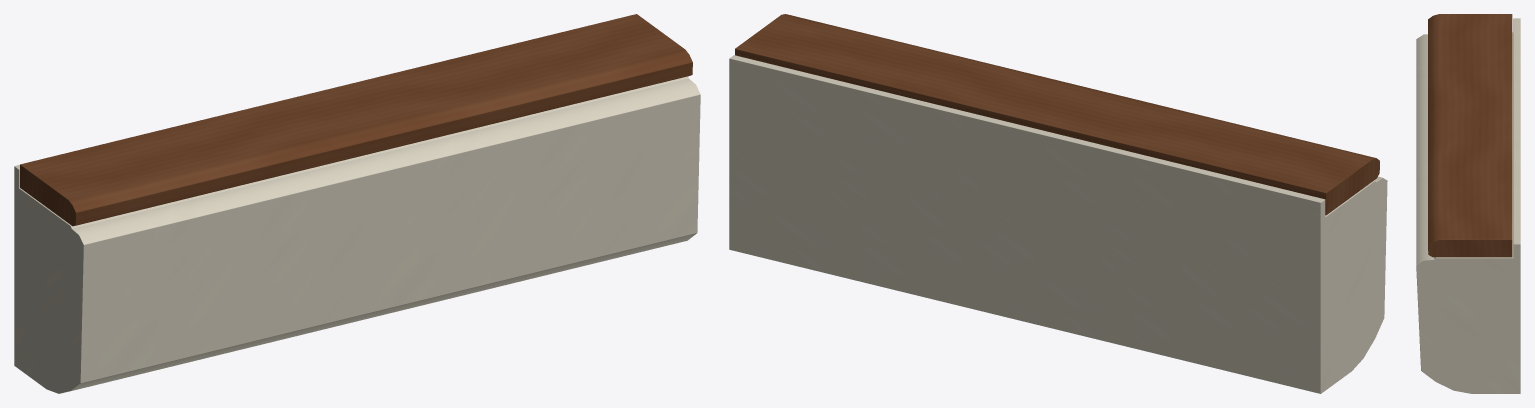
Rendered from AST-VR-01-S.glb.
3 renders of one model, left to right at view 1: azimuth 30°, elevation 25°; view 2: azimuth 150°, elevation 25°; view 3: azimuth 270°, elevation 25°, orthographic. The views are drawn at different scales.
Visible parts, largest first — view 1: ASTRAEA_runtime_ivory_enamel, ASTRAEA_runtime_warm_walnut; view 2: ASTRAEA_runtime_ivory_enamel, ASTRAEA_runtime_warm_walnut; view 3: ASTRAEA_runtime_warm_walnut, ASTRAEA_runtime_ivory_enamel.
Part boxes in pixels (box(x1,y1,x2,y2)): ASTRAEA_runtime_ivory_enamel: box(14, 76, 700, 393); ASTRAEA_runtime_warm_walnut: box(20, 14, 692, 226); ASTRAEA_runtime_ivory_enamel: box(729, 55, 1387, 393); ASTRAEA_runtime_warm_walnut: box(735, 14, 1379, 215); ASTRAEA_runtime_warm_walnut: box(1428, 14, 1512, 257); ASTRAEA_runtime_ivory_enamel: box(1416, 18, 1520, 393).
Size of the model in its own units: 2.2 by 0.7 by 0.43.
Materials: 2 (2 with a texture image).
